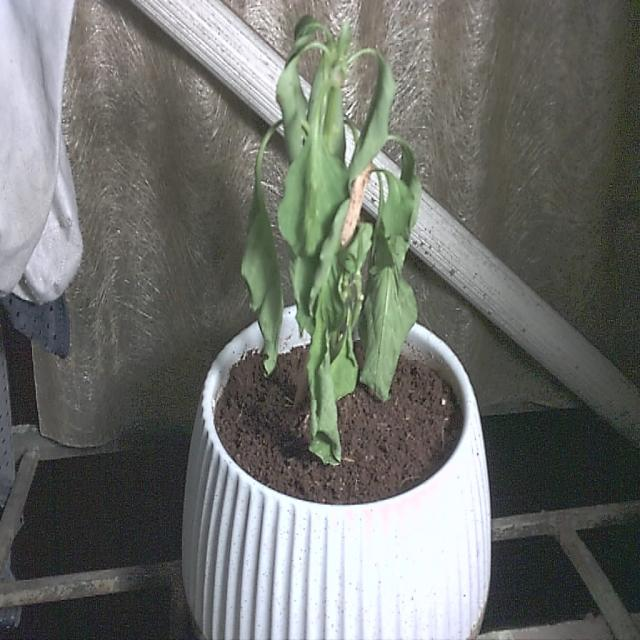Leaf: (278, 141, 351, 334), (353, 258, 416, 402), (240, 180, 285, 379), (305, 320, 345, 472)
